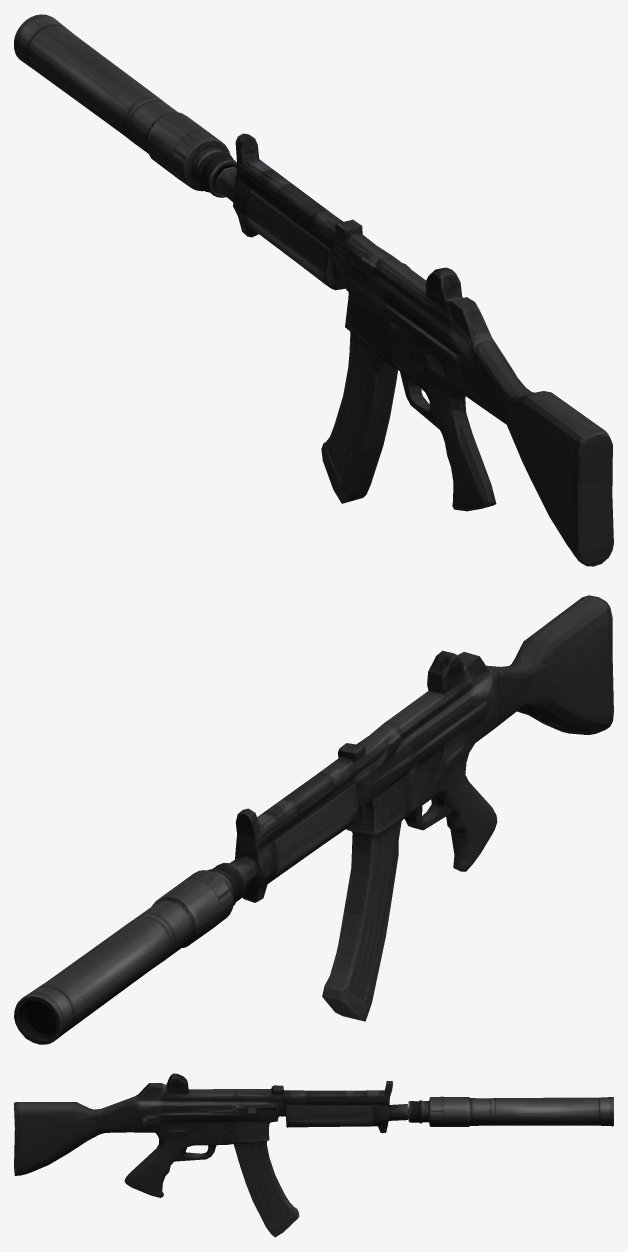
File: black_mp5-k_suppressed.glb
3 renders of one model, top to bottom at view 1: azimuth 30°, elevation 25°; view 2: azimuth 150°, elevation 25°; view 3: azimuth 270°, elevation 25°, orthographic. The views are drawn at different scales.
Parts seen in each view (by area): view 1: black_mp5-k_suppressed; view 2: black_mp5-k_suppressed; view 3: black_mp5-k_suppressed.
Part boxes in pixels (<box>): black_mp5-k_suppressed: <box>14,14,613,566</box>; black_mp5-k_suppressed: <box>14,595,613,1044</box>; black_mp5-k_suppressed: <box>14,1073,613,1237</box>.
Bounding box in the file's own units: 0.0425 × 0.2105 × 0.7159.
Materials: 2 (2 with a texture image).
